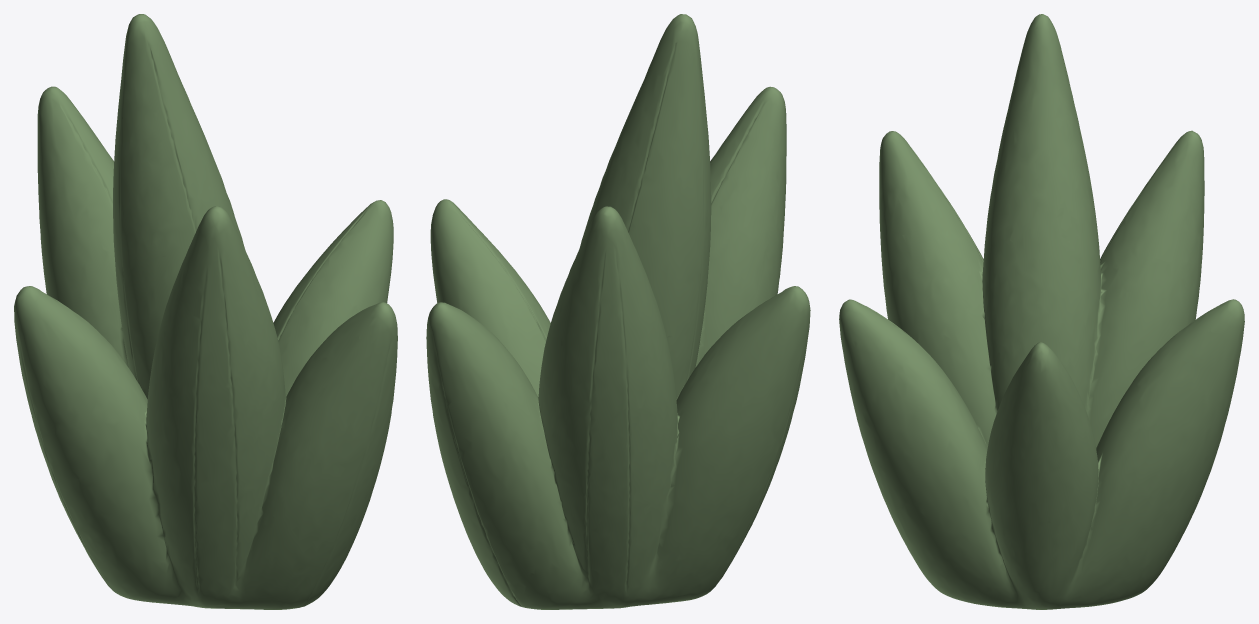
Rendered from aloe-rosette.glb.
3 views of the same model, side by side, from view 1: azimuth 30°, elevation 25°; view 2: azimuth 150°, elevation 25°; view 3: azimuth 270°, elevation 25° (orthographic). The views are drawn at different scales.
Parts seen in each view (by area): view 1: tripo_printable_source; view 2: tripo_printable_source; view 3: tripo_printable_source.
Boxes of the visible parts, box(x1,y1,x2,y2) form: tripo_printable_source: box(14, 14, 397, 609); tripo_printable_source: box(426, 14, 810, 609); tripo_printable_source: box(839, 14, 1244, 609).
Bounding box in the file's own units: 68.24 × 100 × 70.
